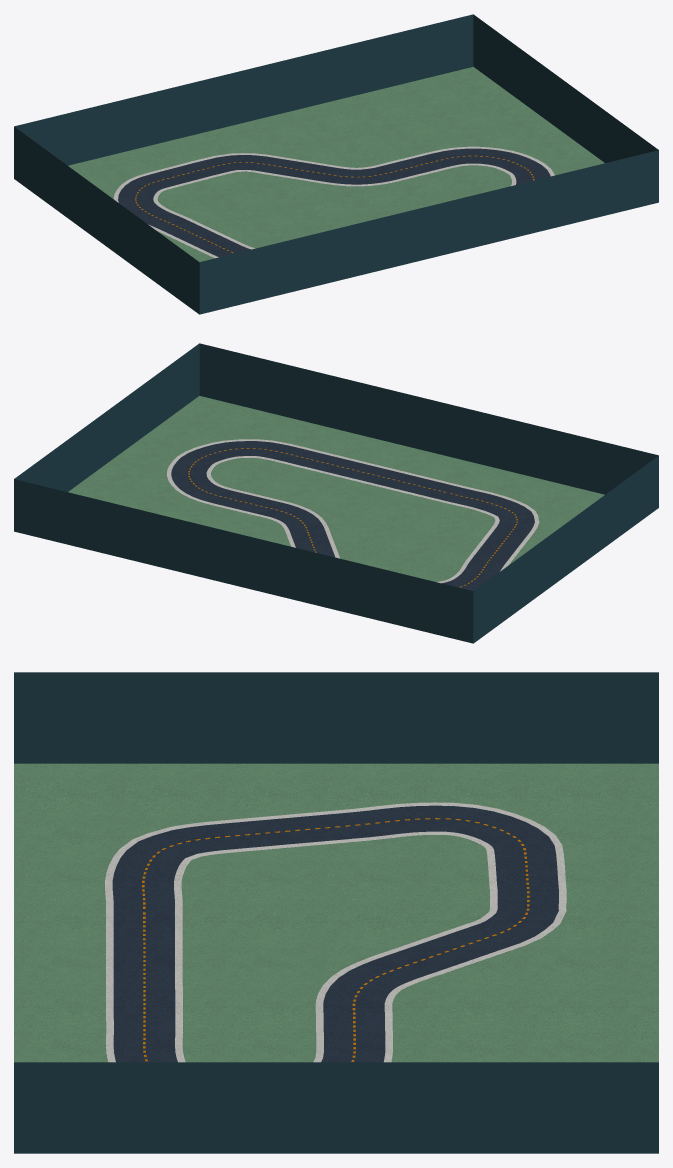
File: reinvent_base.dae
3 renders of one model, top to bottom at view 1: azimuth 30°, elevation 25°; view 2: azimuth 150°, elevation 25°; view 3: azimuth 270°, elevation 25°, orthographic. The views are drawn at different scales.
Parts seen in each view (by area): view 1: wall, field, road, ol, il; view 2: wall, field, road, ol, il, cl; view 3: field, wall, road, ol, il, cl.
Boxes of the visible parts, box(x1,y1,x2,y2) form: wall: box(14, 14, 658, 314); field: box(68, 67, 604, 261); road: box(118, 148, 550, 257); ol: box(113, 146, 554, 258); il: box(153, 163, 516, 249); wall: box(14, 343, 658, 643); field: box(68, 396, 604, 581); road: box(171, 441, 534, 590); ol: box(167, 439, 539, 571); il: box(206, 456, 499, 583); cl: box(188, 448, 517, 587); field: box(14, 763, 658, 1062); wall: box(14, 672, 658, 1153); road: box(112, 805, 558, 1062); ol: box(105, 802, 566, 1062); il: box(174, 831, 497, 1062); cl: box(142, 818, 529, 1061).
Size of the model in its own units: 9.16 by 6.41 by 1.
6 materials, 6 textured.
